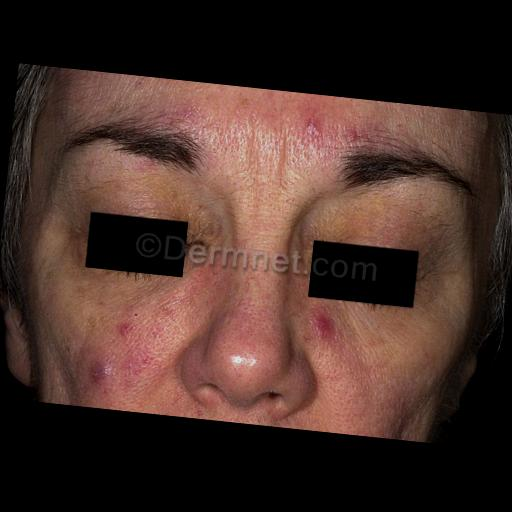Skin_Lesion: (296, 104, 328, 142), (87, 354, 117, 393), (312, 310, 340, 341), (114, 312, 142, 342), (203, 130, 230, 156), (416, 217, 438, 238), (345, 122, 366, 144), (412, 198, 430, 214)
